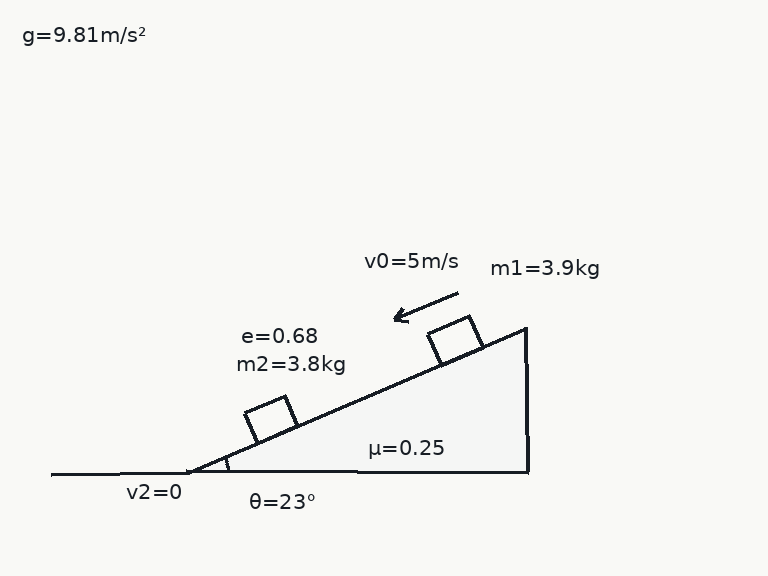block: (425, 313, 485, 367), (242, 394, 300, 445)
ramp: (186, 326, 529, 474)
